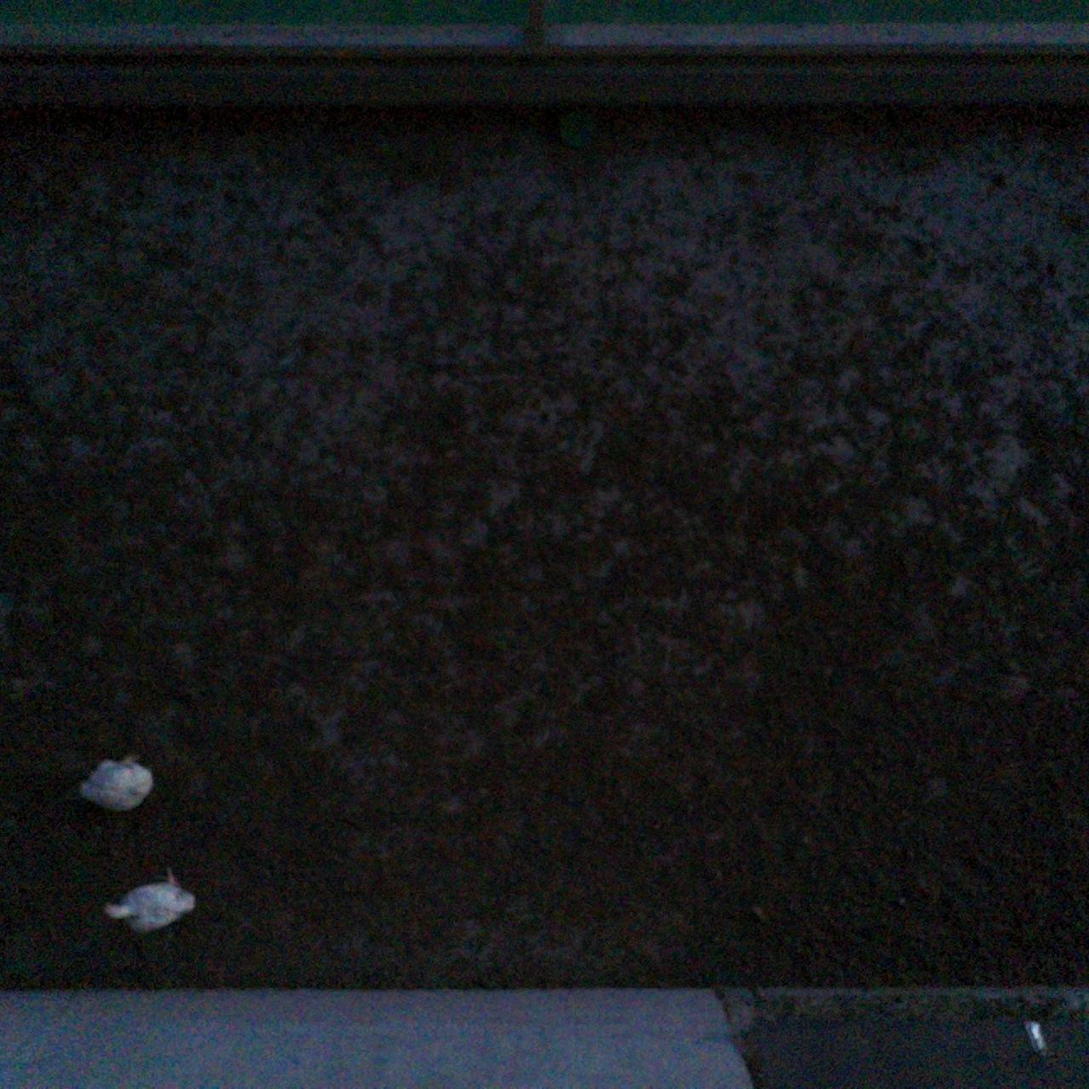chicken: (100, 870, 199, 935), (73, 754, 156, 809)
